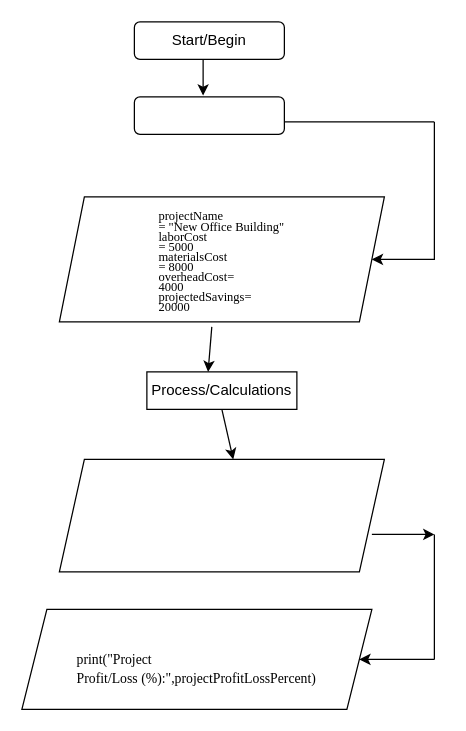
Some shapes in this 466 by 731 pixel diagram are drawn without their labels. Here are the shapes that lost their labels. From the top down, the centre of each, then its label:
At (x=208, y=115): "Input".
At (x=221, y=515): "projectProfitLossPercent = (projectProfitLoss / totalProjectCost1 * 100)".
